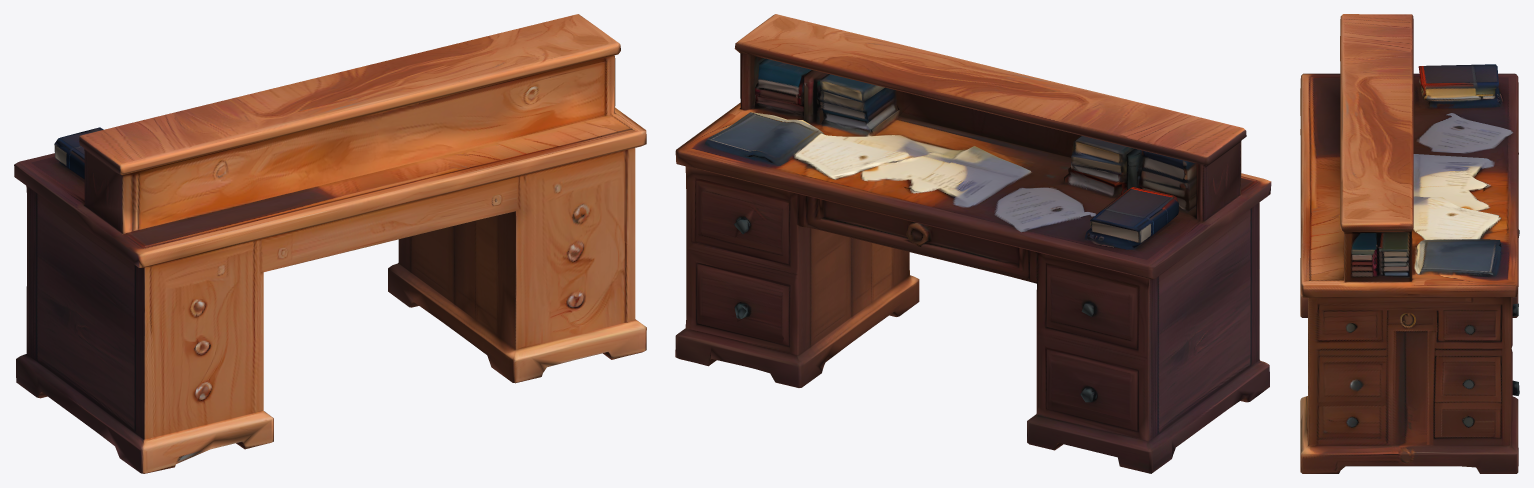
The model's file is wooden+desk+3d+model.obj.
3 renders of one model, left to right at view 1: azimuth 30°, elevation 25°; view 2: azimuth 150°, elevation 25°; view 3: azimuth 270°, elevation 25°, orthographic. The views are drawn at different scales.
Parts seen in each view (by area): view 1: tripo_node_a32096a2-0863-4567-9149-c86215618748; view 2: tripo_node_a32096a2-0863-4567-9149-c86215618748; view 3: tripo_node_a32096a2-0863-4567-9149-c86215618748.
Boxes of the visible parts, <box> form: tripo_node_a32096a2-0863-4567-9149-c86215618748: <box>14,14,646,473</box>; tripo_node_a32096a2-0863-4567-9149-c86215618748: <box>675,14,1271,473</box>; tripo_node_a32096a2-0863-4567-9149-c86215618748: <box>1300,14,1519,473</box>.
Size of the model in its own units: 0.9999 by 0.5507 by 0.4352.
1 material, 1 textured.
